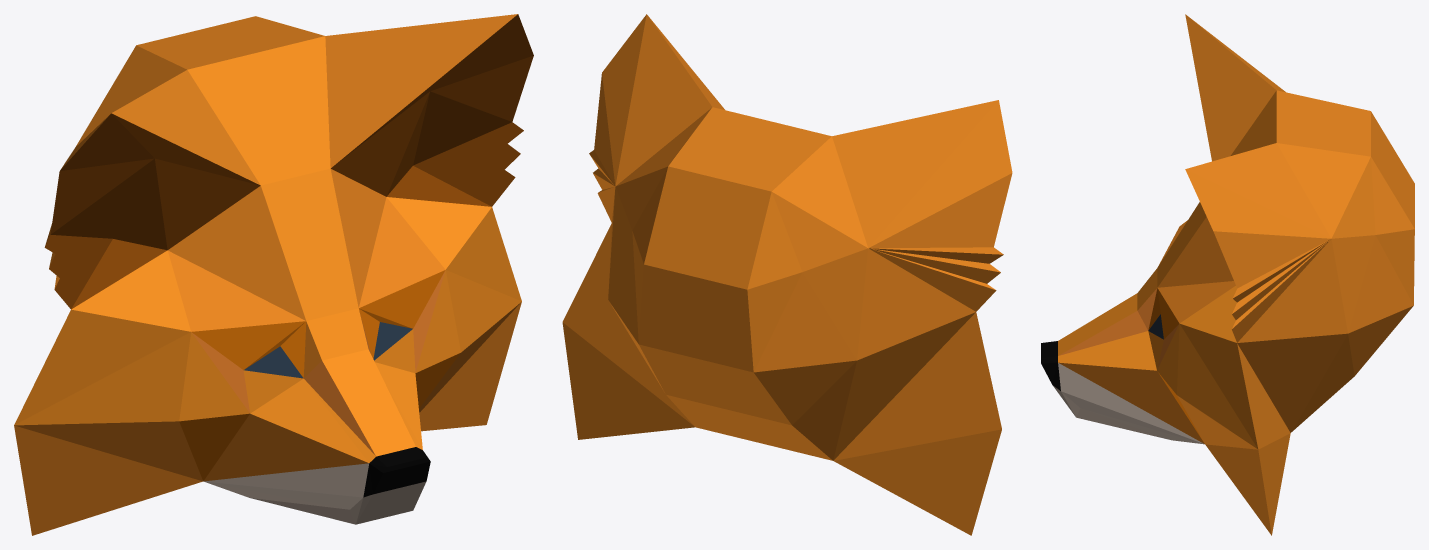
File: fox.glb
The picture shows the model from 3 angles, left to right: view 1: azimuth 30°, elevation 25°; view 2: azimuth 150°, elevation 25°; view 3: azimuth 270°, elevation 25°; orthographic projection. The views are drawn at different scales.
Parts seen in each view (by area): view 1: fox; view 2: fox; view 3: fox.
Boxes of the visible parts, x1=… form: fox: x1=14, y1=14, x2=533, y2=535; fox: x1=562, y1=14, x2=1012, y2=535; fox: x1=1041, y1=14, x2=1414, y2=535.
Size of the model in its own units: 0.8869 by 0.7632 by 0.723.
